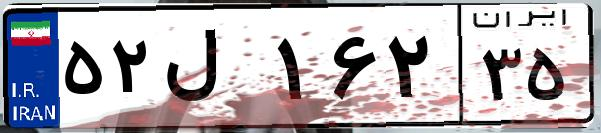1: (270, 28, 330, 110)
2: (385, 28, 445, 110), (110, 28, 158, 98)
3: (475, 38, 525, 113)
5: (57, 26, 110, 100), (525, 38, 570, 115)
6: (330, 28, 385, 110)
ل: (158, 20, 270, 120)
